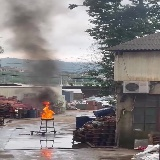fire: (40, 102, 54, 118)
